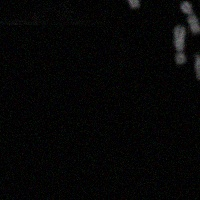chromosome: (181, 0, 200, 34), (172, 27, 187, 67), (111, 0, 138, 10), (193, 54, 200, 79)
